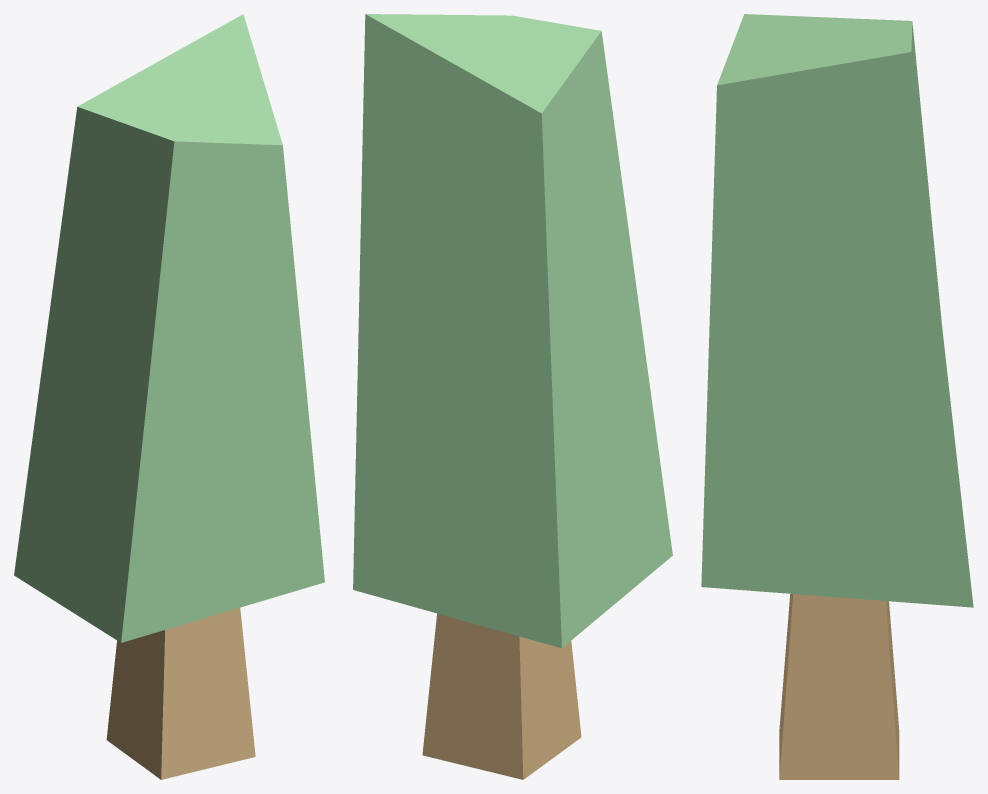
Rendered from tree1_0deg.fbx.
The picture shows the model from 3 angles, left to right: view 1: azimuth 30°, elevation 25°; view 2: azimuth 150°, elevation 25°; view 3: azimuth 270°, elevation 25°; orthographic projection. The views are drawn at different scales.
Visible parts, largest first — view 1: Cube.001, Cube; view 2: Cube.001, Cube; view 3: Cube.001, Cube.
Part boxes in pixels (bbox=[...]): Cube.001: bbox=[14, 14, 324, 642]; Cube: bbox=[106, 607, 255, 779]; Cube.001: bbox=[353, 14, 672, 648]; Cube: bbox=[422, 613, 581, 779]; Cube.001: bbox=[701, 14, 973, 607]; Cube: bbox=[779, 594, 899, 779].
Bounding box in the file's own units: 25.8 × 81.89 × 26.81.
